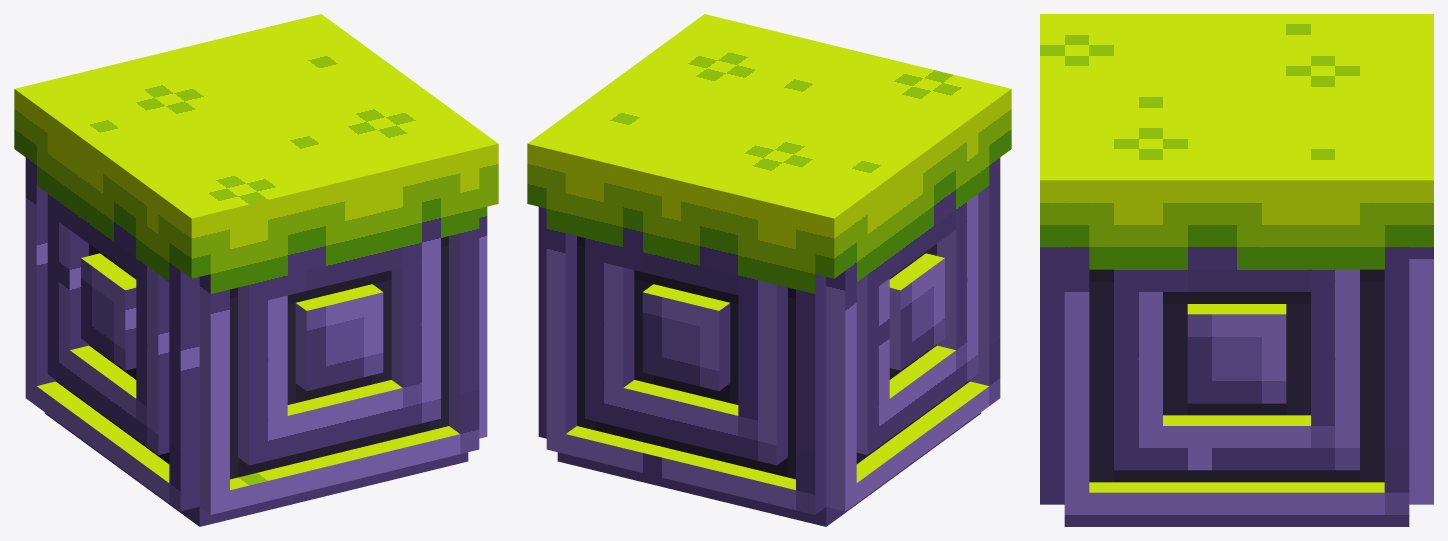
Rendered from hex_trigger_aao.fezao.glb.
The picture shows the model from 3 angles, left to right: view 1: azimuth 30°, elevation 25°; view 2: azimuth 150°, elevation 25°; view 3: azimuth 270°, elevation 25°; orthographic projection. The views are drawn at different scales.
Visible parts, largest first — view 1: HEX_TRIGGER_AAO; view 2: HEX_TRIGGER_AAO; view 3: HEX_TRIGGER_AAO.
Boxes of the visible parts, left/top/right/bottom form: HEX_TRIGGER_AAO: left=14, top=14, right=498, bottom=526; HEX_TRIGGER_AAO: left=527, top=14, right=1011, bottom=526; HEX_TRIGGER_AAO: left=1040, top=14, right=1433, bottom=526.
Bounding box in the file's own units: 1 × 1 × 1.
1 material, 1 textured.
